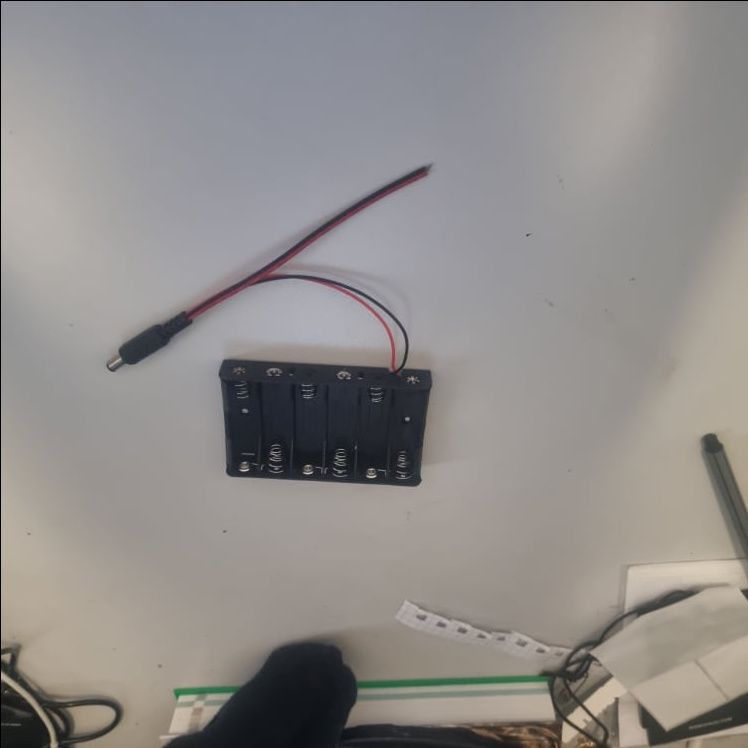BATTERY BOX: (216, 357, 432, 487)
